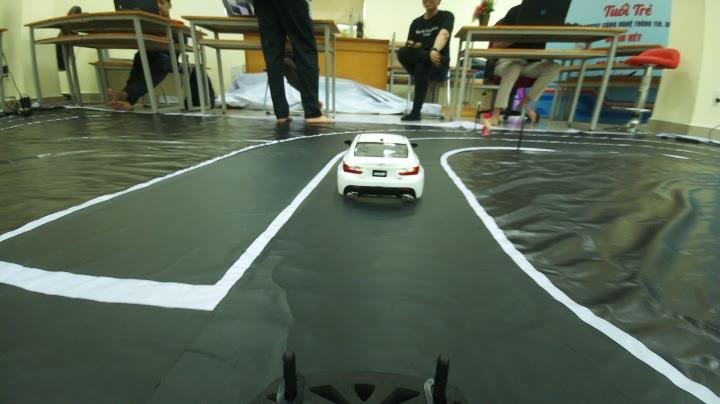car: (332, 122, 426, 207)
